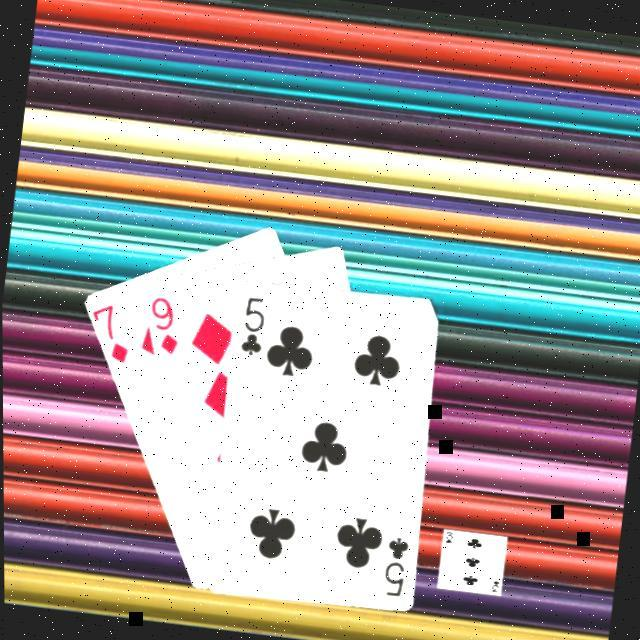5C: (377, 533, 413, 602), (236, 293, 271, 360)
7D: (85, 300, 136, 369)
9D: (142, 294, 187, 360)
